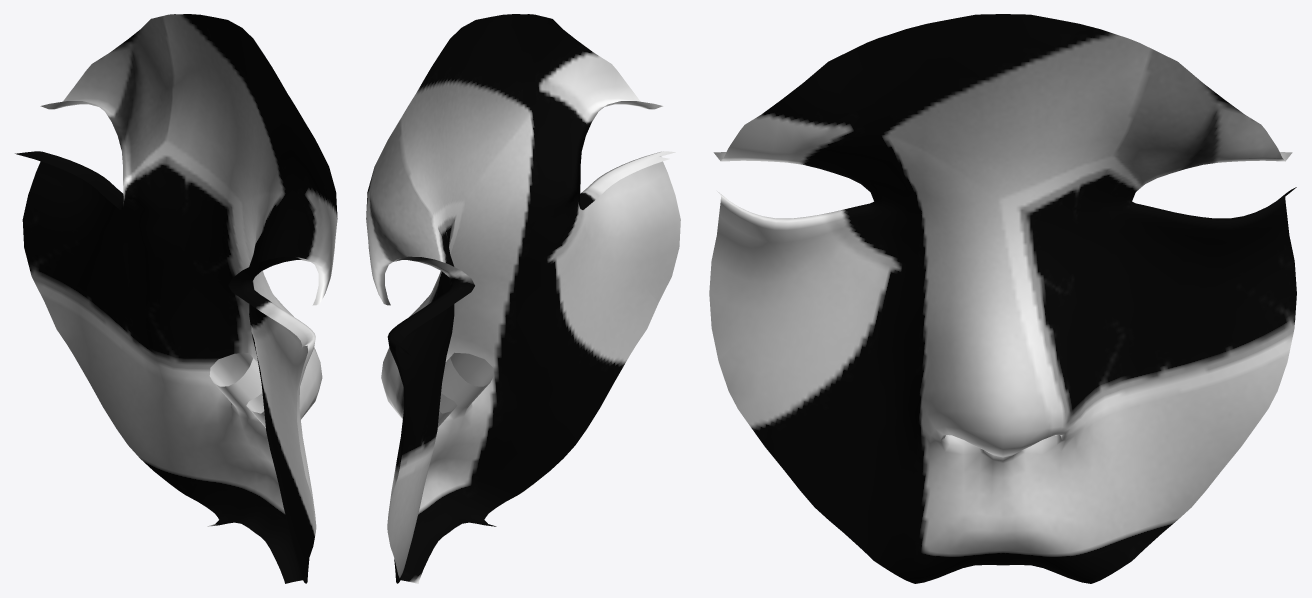
Rendered from geishaFace.gltf.
3 views of the same model, side by side, from view 1: azimuth 30°, elevation 25°; view 2: azimuth 150°, elevation 25°; view 3: azimuth 270°, elevation 25° (orthographic). The views are drawn at different scales.
Visible parts, largest first — view 1: Plane.006; view 2: Plane.006; view 3: Plane.006.
Part boxes in pixels (<box>): Plane.006: <box>15,14,337,583</box>; Plane.006: <box>366,14,680,583</box>; Plane.006: <box>709,14,1296,583</box>.
Size of the model in its own units: 2.54 by 7.77 by 7.37.
Materials: 1 (1 with a texture image).
